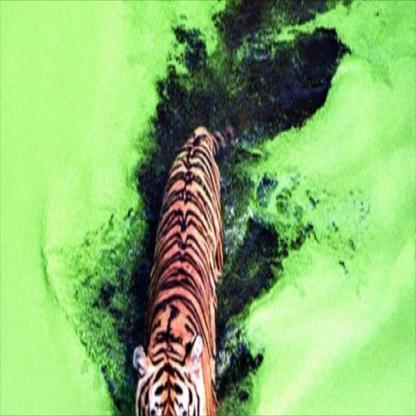Tiger: (136, 116, 244, 415)
